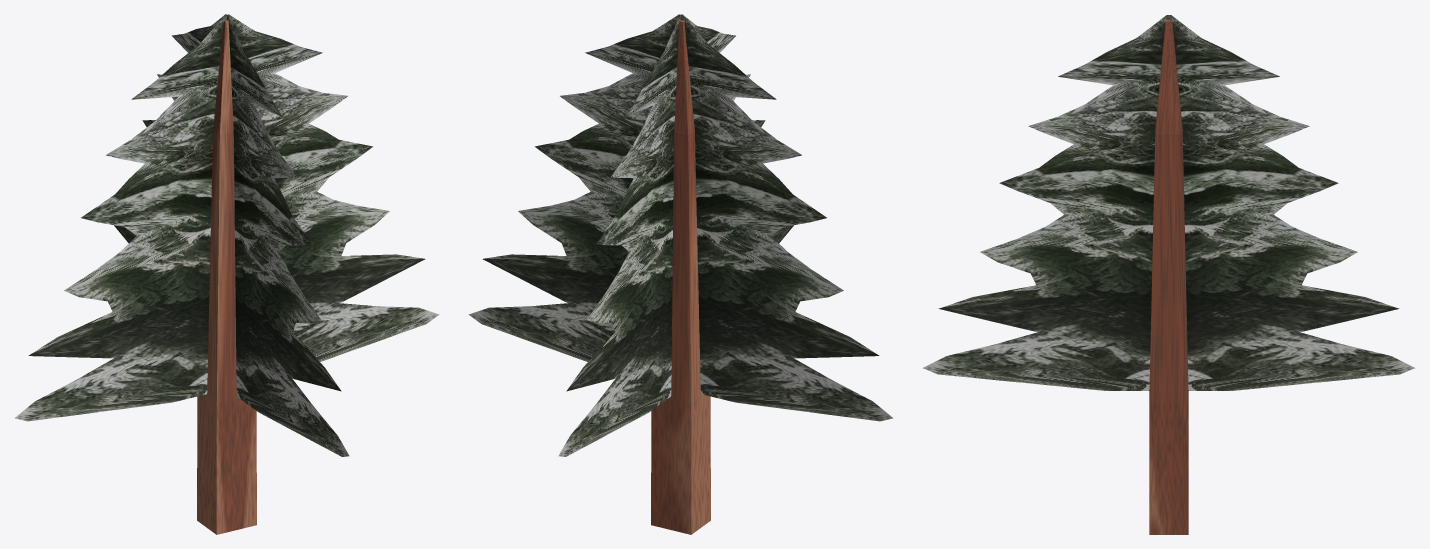
The model's file is bam2von30.fbx.
3 views of the same model, side by side, from view 1: azimuth 30°, elevation 25°; view 2: azimuth 150°, elevation 25°; view 3: azimuth 270°, elevation 25° (orthographic).
Parts seen in each view (by area): view 1: Cube.002, Cube.004, Cube.003, Cube, Cube.001; view 2: Cube.002, Cube.004, Cube.001, Cube, Cube.003; view 3: Cube.001, Cube.003, Cube.
Part boxes in pixels (box(x1,y1,x2,y2)): Cube.002: box(15, 14, 228, 421); Cube.004: box(229, 14, 439, 361); Cube.003: box(228, 16, 349, 456); Cube: box(197, 19, 256, 534); Cube.001: box(114, 14, 228, 243); Cube.002: box(679, 14, 892, 421); Cube.004: box(468, 14, 682, 361); Cube.001: box(558, 16, 679, 456); Cube: box(651, 19, 710, 534); Cube.003: box(679, 14, 793, 243); Cube.001: box(1166, 15, 1414, 390); Cube.003: box(923, 15, 1170, 390); Cube: box(1149, 20, 1188, 534).
Bounding box in the file's own units: 338 × 386 × 338.
5 materials, 5 textured.
